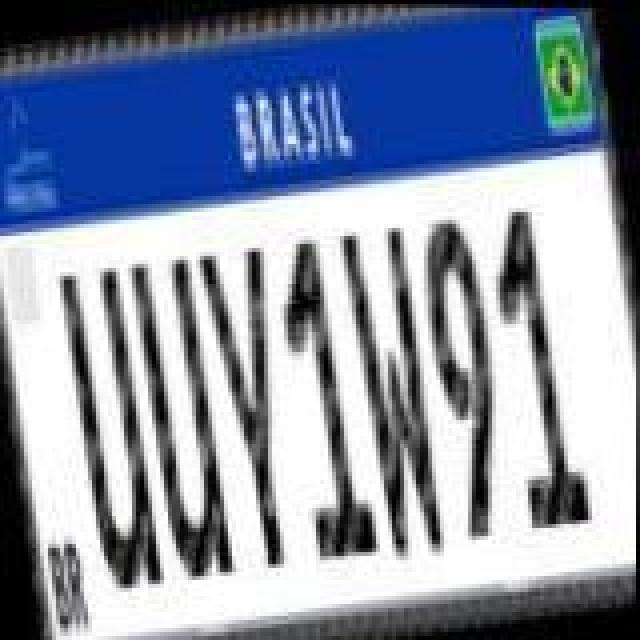1: (480, 198, 596, 534), (268, 230, 384, 562)
9: (410, 208, 522, 540)
U: (126, 250, 238, 586), (54, 260, 166, 592)
W: (334, 216, 454, 560)
Y: (196, 238, 312, 574)
